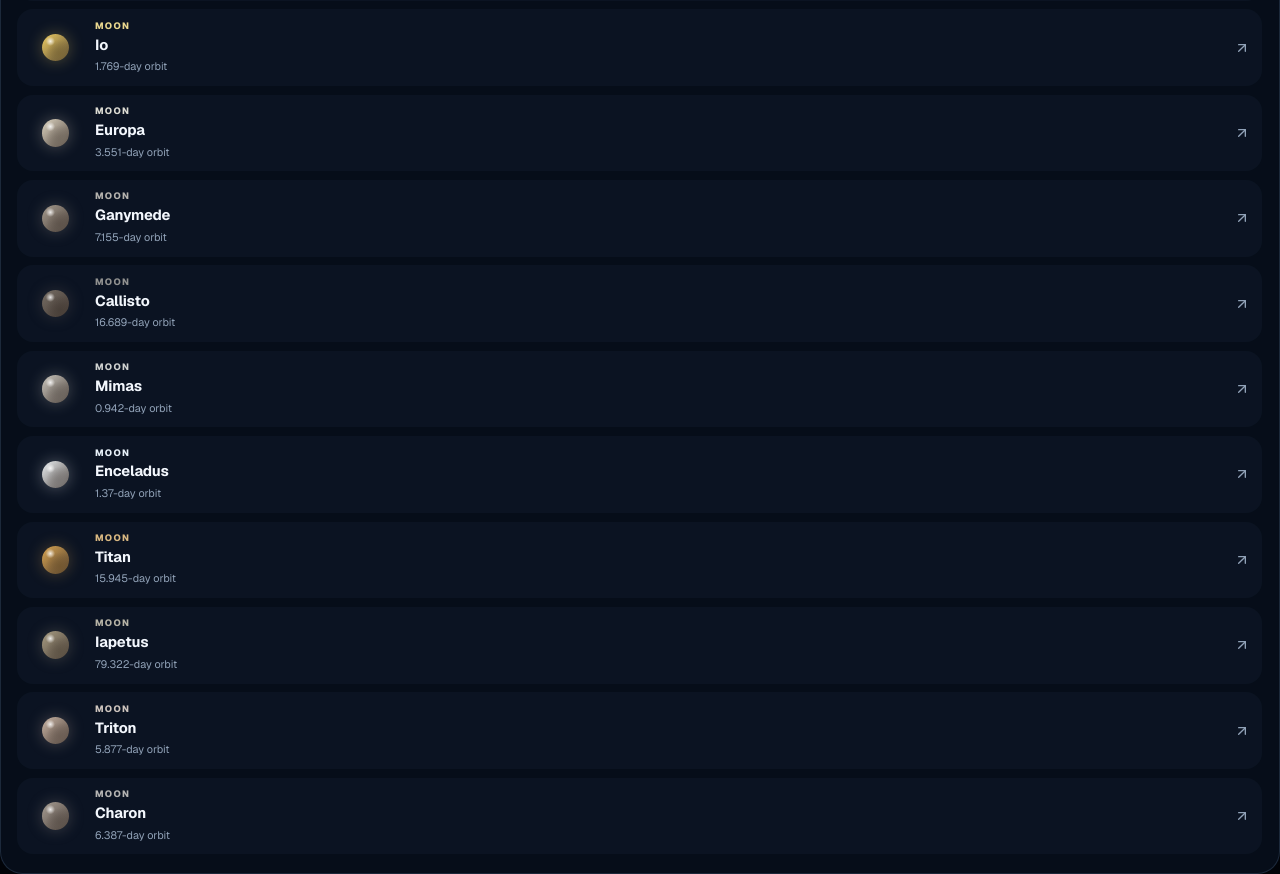
Scenario: FocusCard and ProfilePanel › closes the profile with an accessible button
(page scrolled)
Click the button "Moon Titan 15.945-day orbit": (113, 538) [17,522,1262,598]
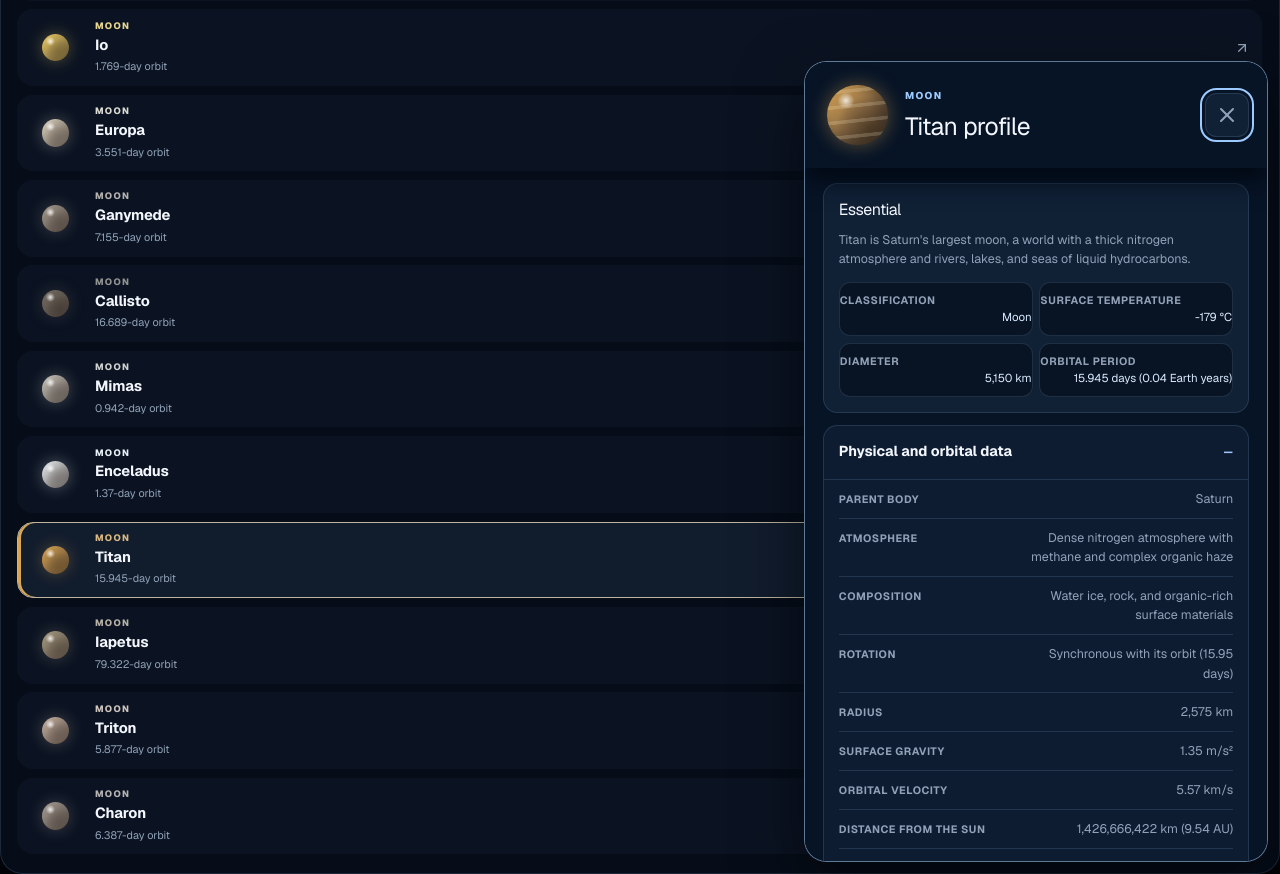
Click the button named "Close profile": (1227, 115) [1205,93,1249,137]
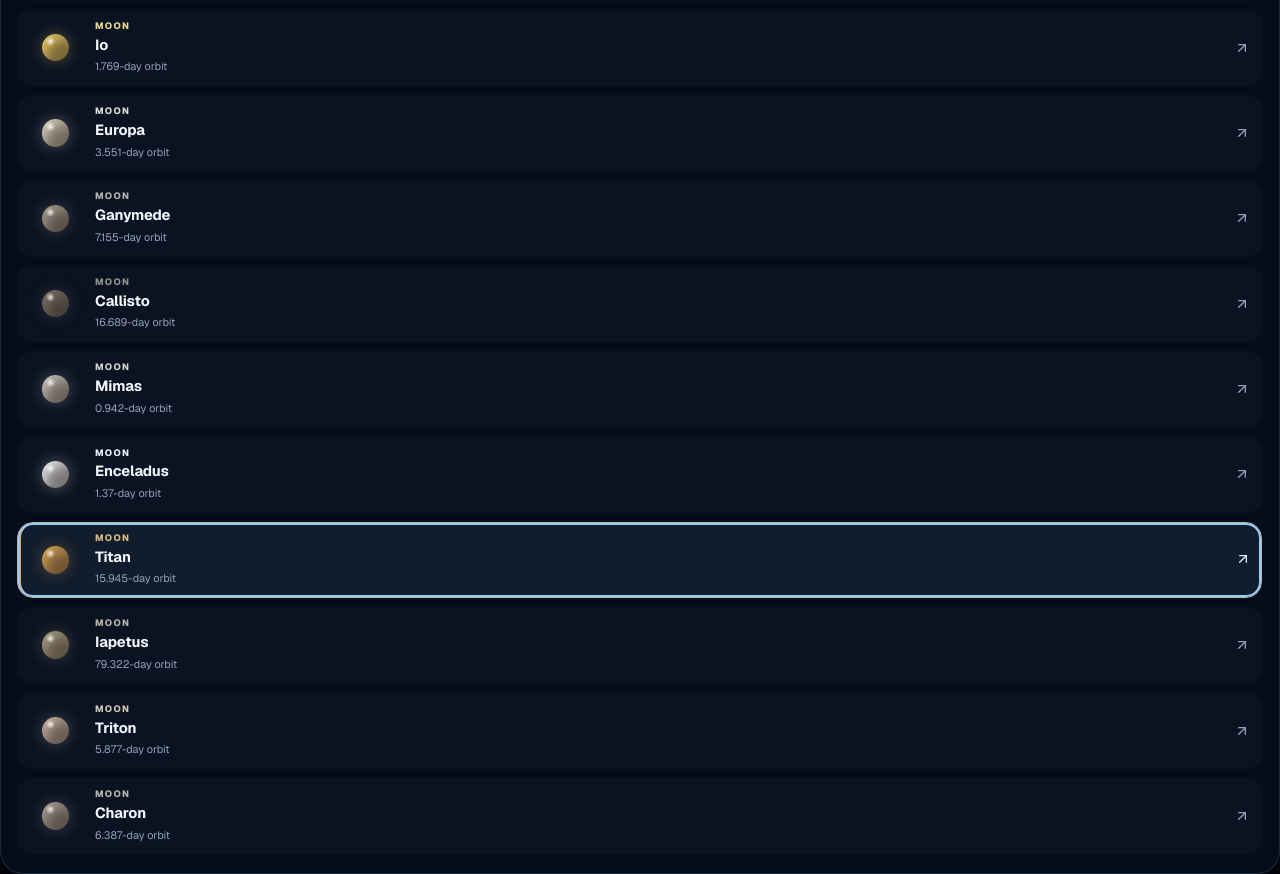
Check: the dialog is gone
